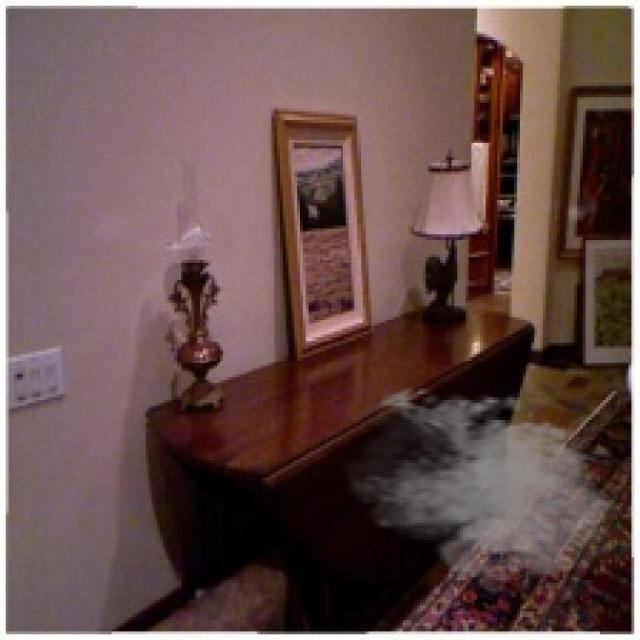Smoke: (340, 382, 623, 598)
